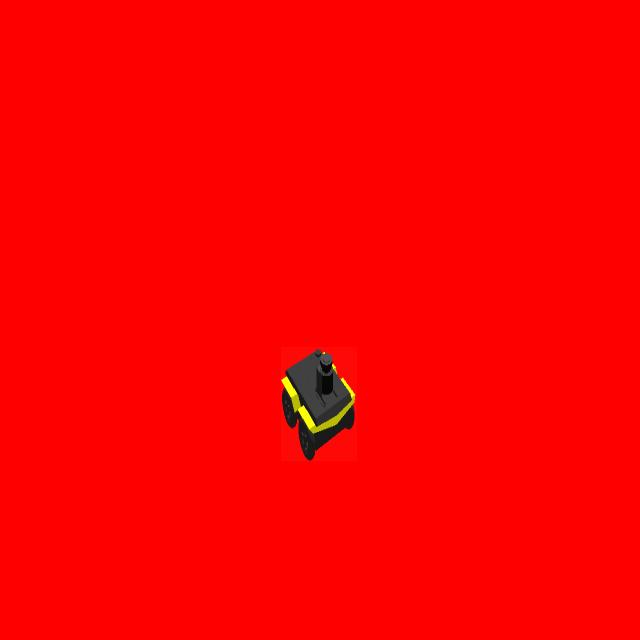jackal: (281, 347, 357, 461)
